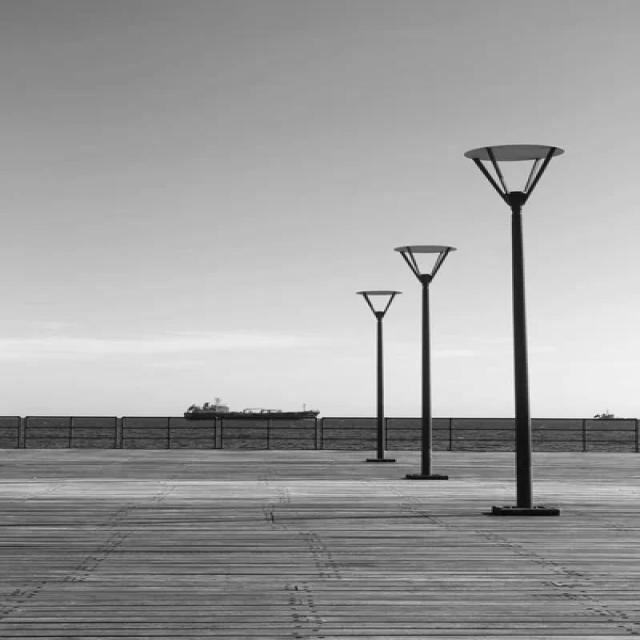Pole: (466, 144, 564, 517), (395, 245, 458, 480), (358, 291, 402, 464)
